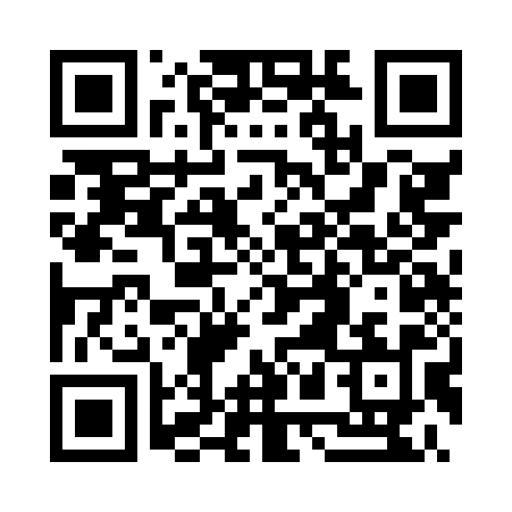qr_code: (50, 49, 463, 463)
